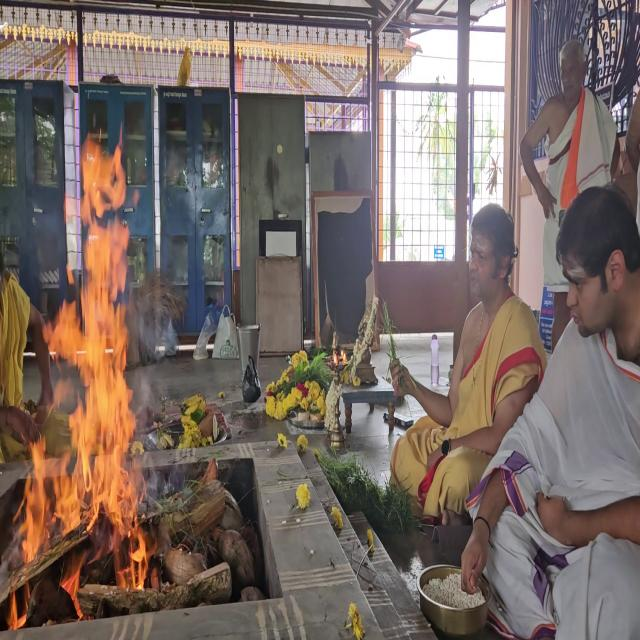fire: (0, 119, 152, 640)
